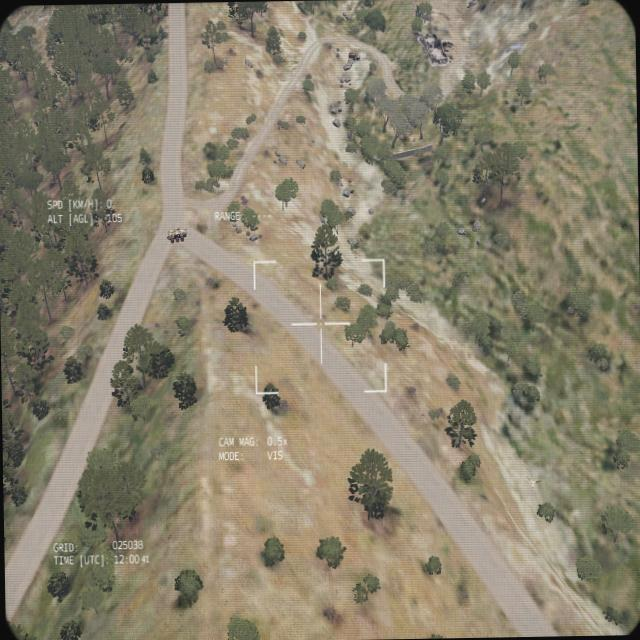apc: (167, 225, 187, 242)
